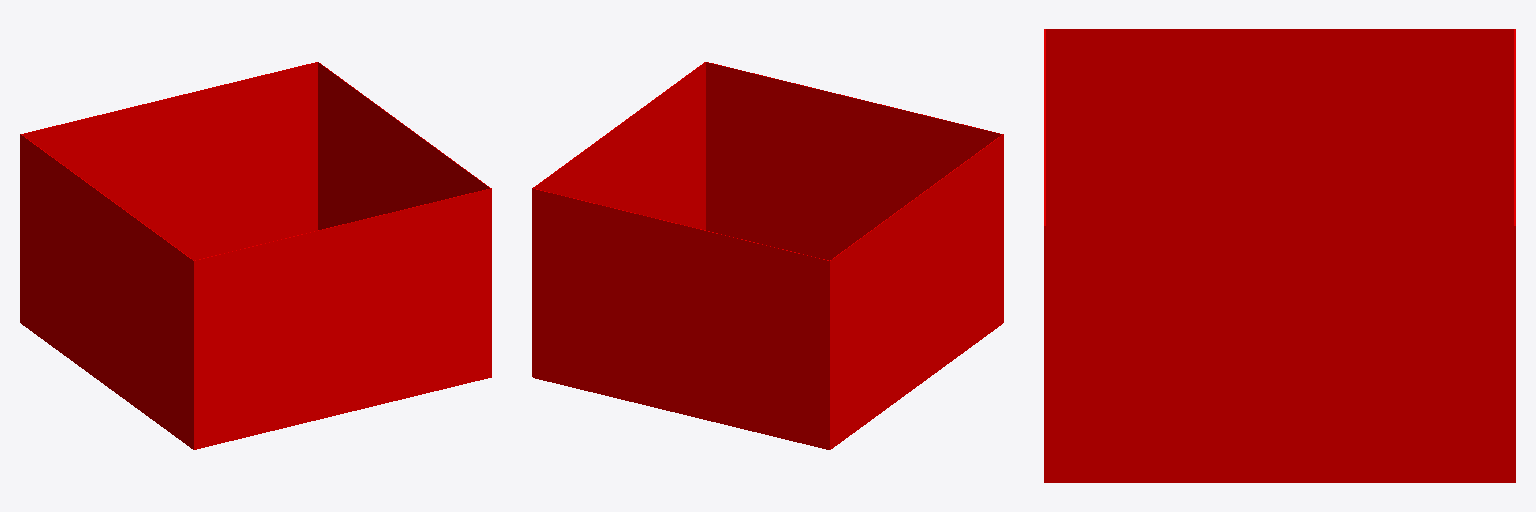
robot.urdf — square.urdf:
<?xml version="1.0" ?>
<robot name="square.urdf">
  <link name="baseLink">
    <contact>
      <lateral_friction value="1.0"/>
      <inertia_scaling value="3.0"/>
    </contact>
    <inertial>
      <origin rpy="0 0 0" xyz="0 0 0"/>
       <mass value=".1"/>
       <inertia ixx="1" ixy="0" ixz="0" iyy="1" iyz="0" izz="1"/>
    </inertial>
    <visual>
      <origin rpy="0 0 0" xyz="0 0 0"/>
      <geometry>
        <mesh filename="11.stl" scale="1 1 1" />
      </geometry>
      <material name="red">
        <color rgba="1 0 0 1"/>
      </material>
    </visual>
    <collision>
      <origin rpy="0 0 0" xyz="0 0 0"/>
      <geometry>
        <mesh filename="11_convex.obj" scale="1 1 1" />
      </geometry>
    </collision>
  </link>
</robot>

--- What the picture shows (computed from the rendered views, not written in the file) ---
3 views of the same robot in one strip: view 1: azimuth 30°, elevation 25°; view 2: azimuth 150°, elevation 25°; view 3: azimuth 270°, elevation 25° (orthographic).
Robot: square.urdf — 1 links, 0 joints (none); root link baseLink; default pose: every joint at zero.
Links seen in each view (by area): view 1: baseLink; view 2: baseLink; view 3: baseLink.
Boxes of the visible links, box(x1,y1,x2,y2) form: baseLink: box(20, 62, 491, 449); baseLink: box(532, 62, 1003, 449); baseLink: box(1044, 29, 1515, 482).
Size in the robot's own frame: 0.4522 by 0.4559 by 0.2744 metres.
1 mesh visuals loaded from 1 distinct referenced files (1 binary STL).